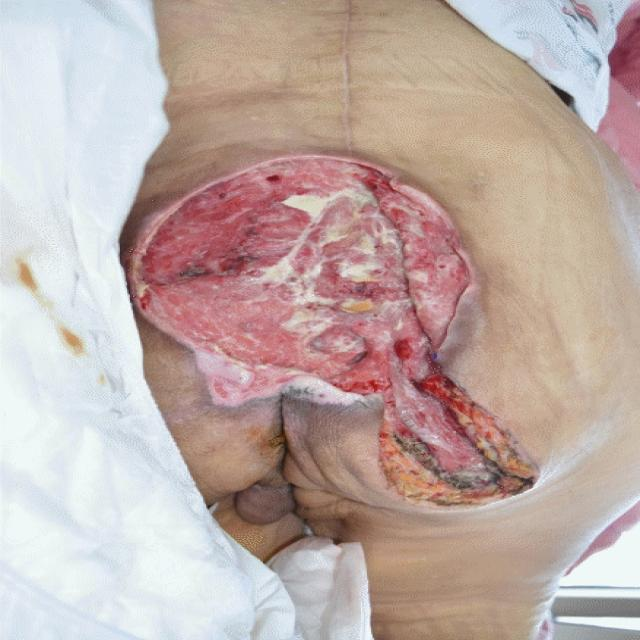stage-4: (132, 155, 538, 502)
